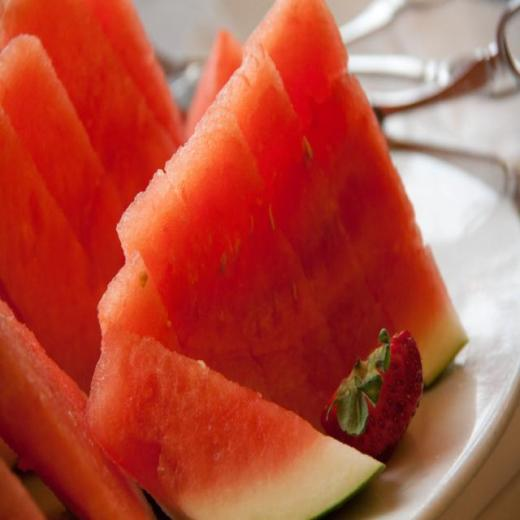Cherry: (0, 0, 469, 519)
